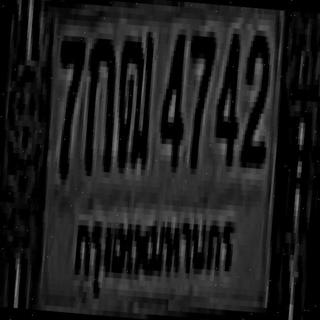A01: (79, 32, 119, 172)
A18: (112, 27, 156, 167)
N02: (237, 29, 273, 163)
N04: (156, 28, 190, 167), (212, 27, 244, 161)
N07: (178, 27, 215, 166), (50, 32, 84, 172)
P04: (70, 198, 240, 299)
